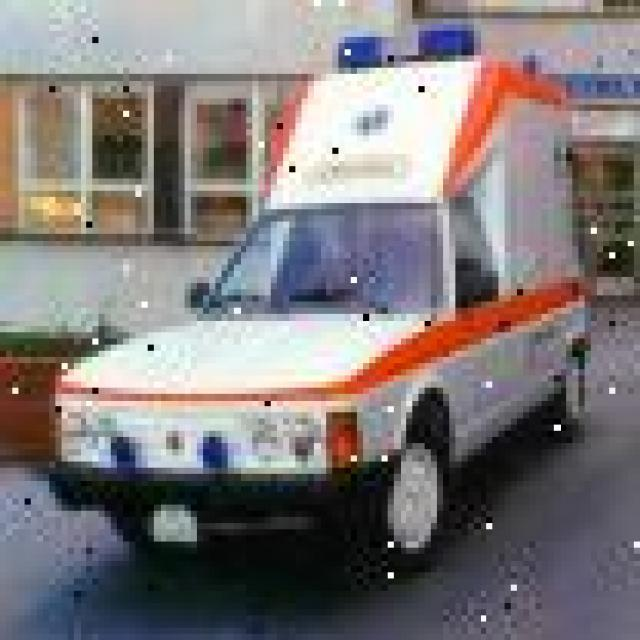emergency-vehicle: (46, 24, 594, 566)
